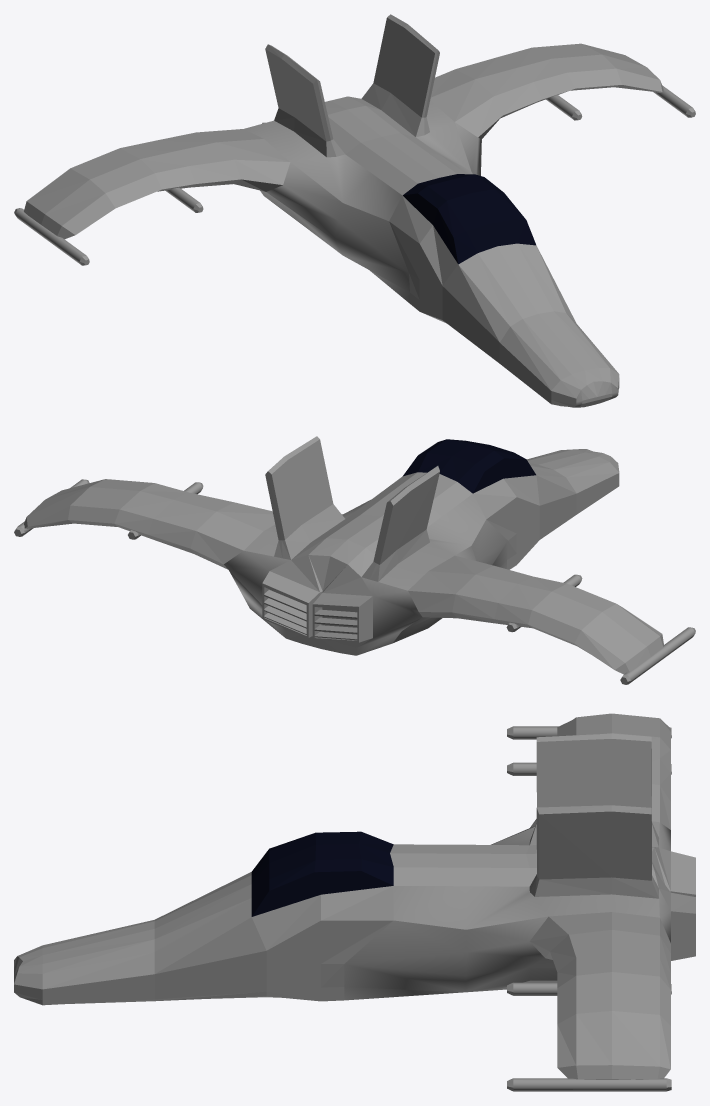
File: ShipModel.FBX
3 views of the same model, one above another, from view 1: azimuth 30°, elevation 25°; view 2: azimuth 150°, elevation 25°; view 3: azimuth 270°, elevation 25° (orthographic). The views are drawn at different scales.
Visible parts, largest first — view 1: Ship; view 2: Ship; view 3: Ship.
Boxes of the visible parts, x1,y1,x2,y2 form: Ship: (14,14,695,407); Ship: (14,436,695,684); Ship: (14,713,695,1091).
Bounding box in the file's own units: 371 × 109 × 299.
